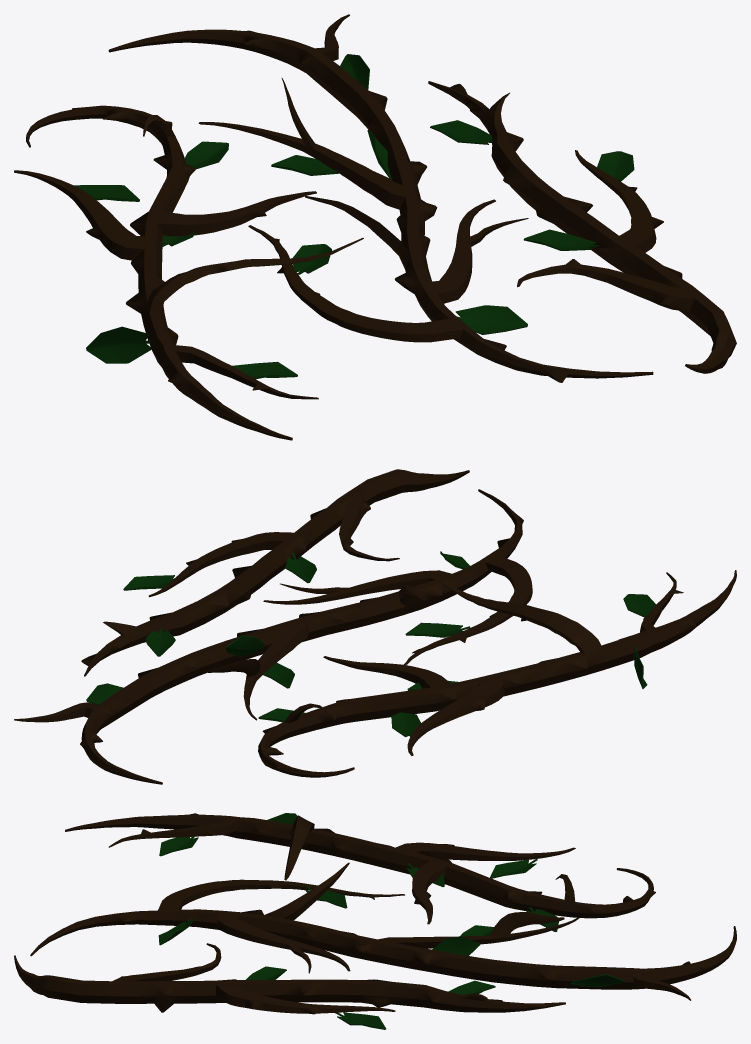
Rendered from Vines.fbx.
3 renders of one model, top to bottom at view 1: azimuth 30°, elevation 25°; view 2: azimuth 150°, elevation 25°; view 3: azimuth 270°, elevation 25°, orthographic. The views are drawn at different scales.
Parts seen in each view (by area): view 1: Box016; view 2: Box016; view 3: Box016.
Boxes of the visible parts, x1,y1,x2,y2 form: Box016: (14,14,736,440); Box016: (14,469,736,784); Box016: (14,813,736,1029).
Size of the model in its own units: 9.92 by 1.28 by 14.03.
